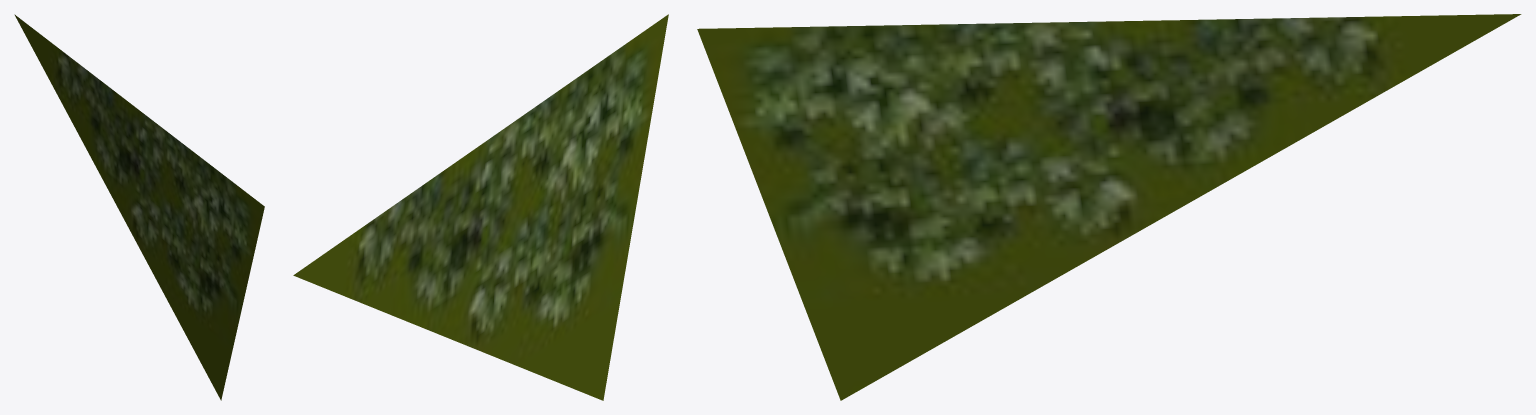
File: prop_ivyedgehorizontal02.glb
The picture shows the model from 3 angles, left to right: view 1: azimuth 30°, elevation 25°; view 2: azimuth 150°, elevation 25°; view 3: azimuth 270°, elevation 25°; orthographic projection. The views are drawn at different scales.
Bounding box in the file's own units: 0 × 51.34 × 99.18.
1 material, 1 textured.
